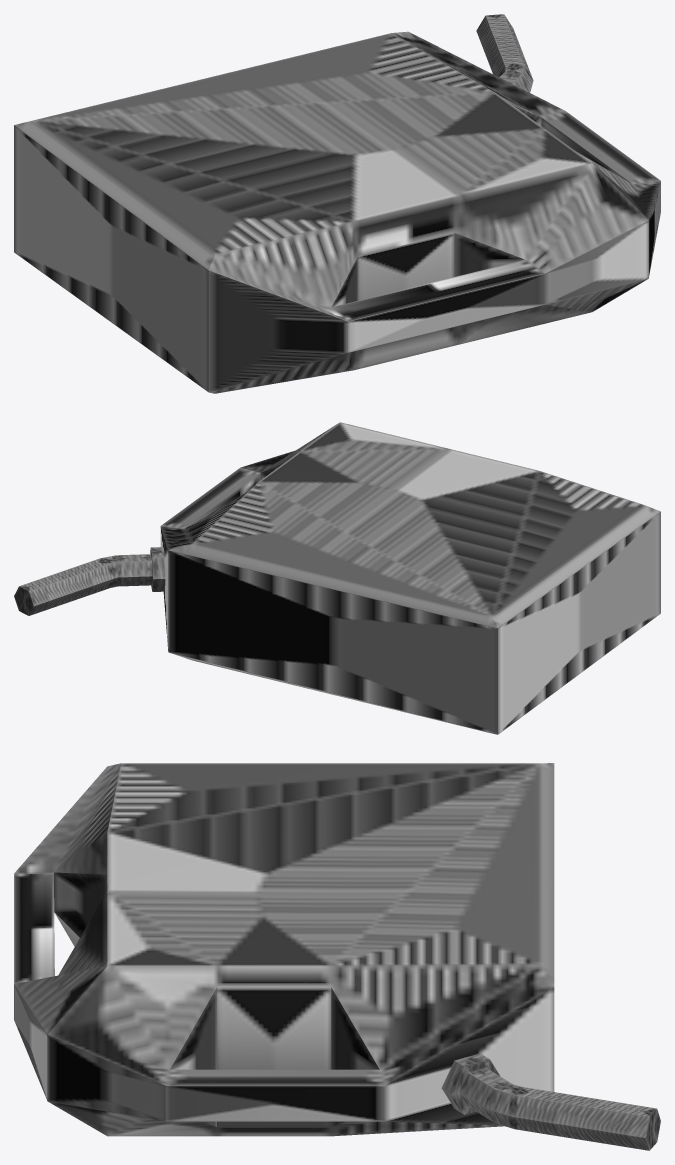
Rendered from item_fueltank.dae.
3 renders of one model, top to bottom at view 1: azimuth 30°, elevation 25°; view 2: azimuth 150°, elevation 25°; view 3: azimuth 270°, elevation 25°, orthographic. The views are drawn at different scales.
Visible parts, largest first — view 1: fueltank; view 2: fueltank; view 3: fueltank.
Boxes of the visible parts, x1,y1,x2,y2 form: fueltank: (14, 14, 660, 393); fueltank: (14, 422, 660, 734); fueltank: (14, 763, 660, 1150).
Size of what is drawn, in the model's own units: 0.3857 by 0.1015 by 0.3494.
